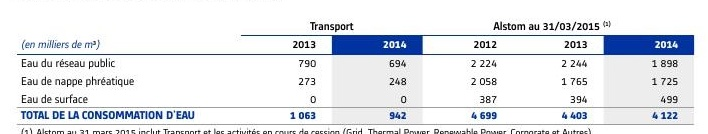table: (0, 0, 708, 134)
